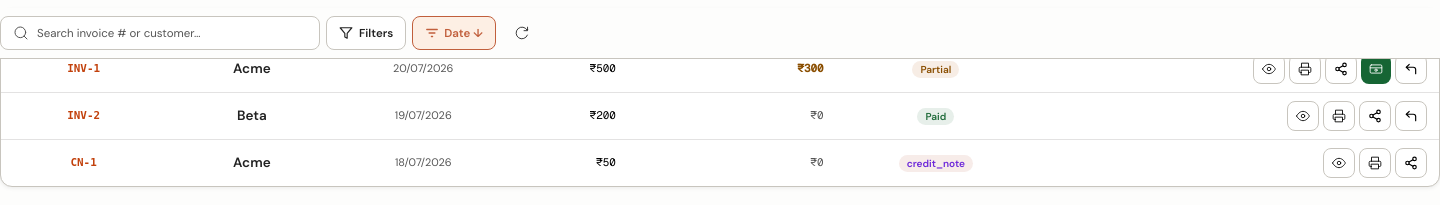
Test case: InvoicesListView › filters by search
Expected: the text "INV-1" is shown, [1,46,166,93]
Type "Beta" into the field with placeholder "Search invoice # or customer…". click: (137, 33)
box: [37,26,237,40]
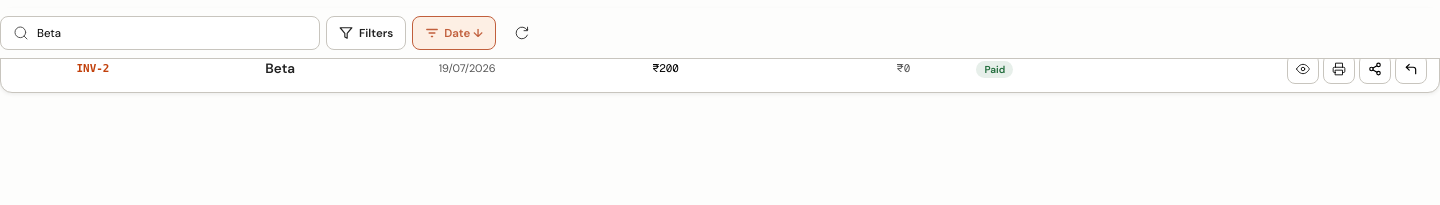
Expected: the text "INV-2" is shown, [1,46,185,92]
Expected: the text "INV-1" is gone
